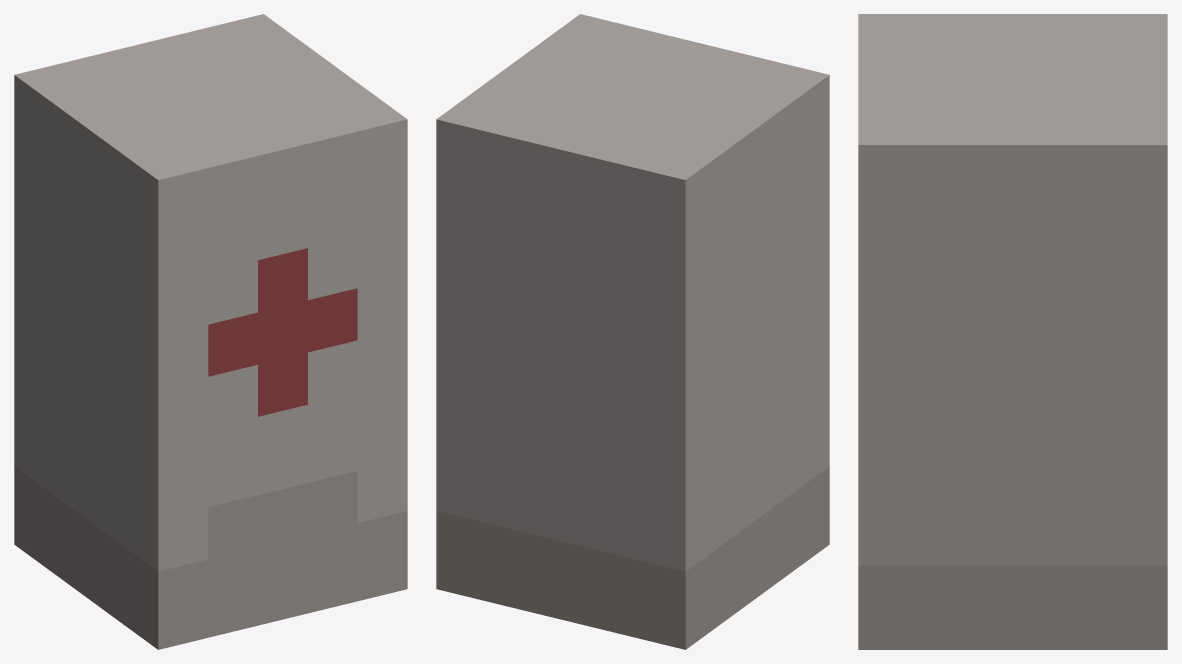
The model's file is aptechka.obj.
3 renders of one model, left to right at view 1: azimuth 30°, elevation 25°; view 2: azimuth 150°, elevation 25°; view 3: azimuth 270°, elevation 25°, orthographic. The views are drawn at different scales.
Bounding box in the file's own units: 1 × 1.8 × 1.
1 material, 1 textured.
